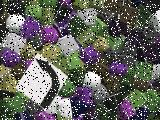Left: (16, 53, 68, 111)
